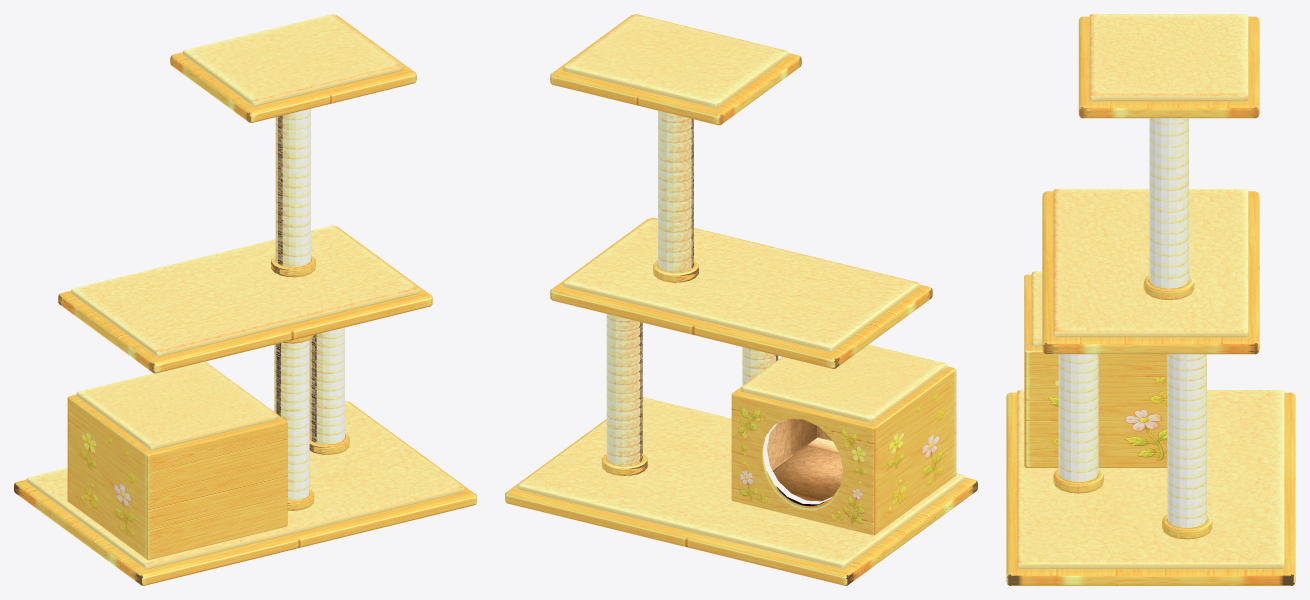
The model's file is cat_tower_yellow_01_muted_unlit.glb.
3 views of the same model, side by side, from view 1: azimuth 30°, elevation 25°; view 2: azimuth 150°, elevation 25°; view 3: azimuth 270°, elevation 25° (orthographic). The views are drawn at different scales.
Visible parts, largest first — view 1: cat_tower_mesh; view 2: cat_tower_mesh; view 3: cat_tower_mesh.
Part boxes in pixels (bbox=[...]): cat_tower_mesh: bbox=[14, 14, 476, 585]; cat_tower_mesh: bbox=[505, 14, 977, 585]; cat_tower_mesh: bbox=[1006, 14, 1295, 585].
Bounding box in the file's own units: 2.4 × 2.88 × 1.6.
25 materials, 24 textured.
